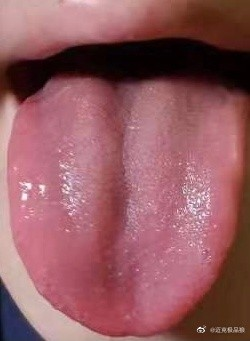huataishe: (20, 145, 88, 233), (170, 149, 214, 235)
